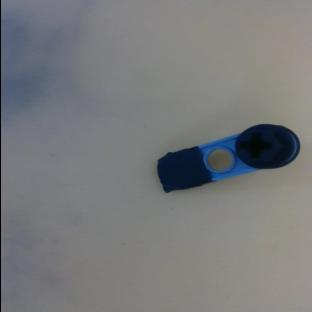part_1_bad: (152, 116, 303, 195)
